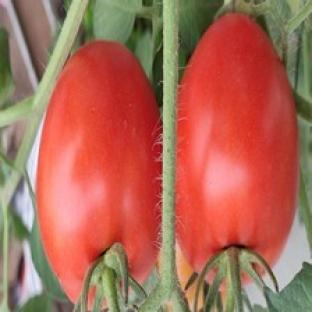Tomato: (37, 42, 161, 302), (177, 14, 299, 271)
